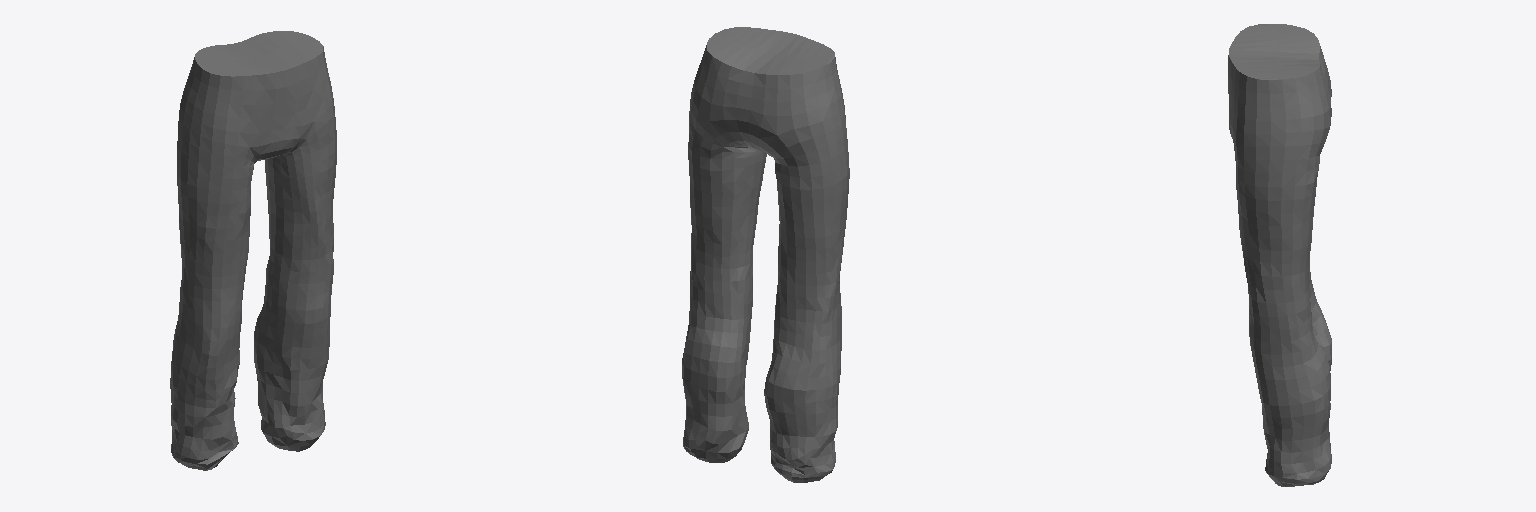
Rendered from LowPoly_Apostador_Calca.obj.
3 renders of one model, left to right at view 1: azimuth 30°, elevation 25°; view 2: azimuth 150°, elevation 25°; view 3: azimuth 270°, elevation 25°, orthographic.
Parts seen in each view (by area): view 1: LowPoly_Apostador_Calca; view 2: LowPoly_Apostador_Calca; view 3: LowPoly_Apostador_Calca.
Part boxes in pixels (left/top/right/bottom): LowPoly_Apostador_Calca: left=170, top=31, right=336, bottom=470; LowPoly_Apostador_Calca: left=682, top=27, right=849, bottom=482; LowPoly_Apostador_Calca: left=1228, top=24, right=1331, bottom=486.
Size of the model in its own units: 31.95 by 83.66 by 19.41.